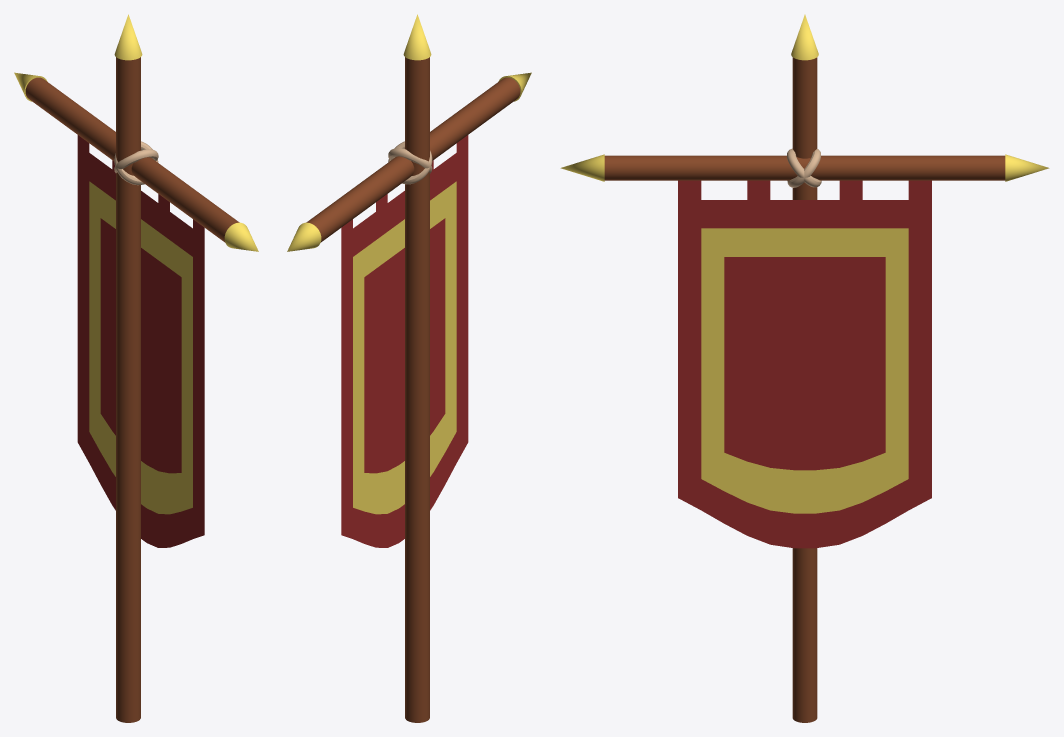
File: Flag 2.fbx
The picture shows the model from 3 angles, left to right: view 1: azimuth 30°, elevation 25°; view 2: azimuth 150°, elevation 25°; view 3: azimuth 270°, elevation 25°; orthographic projection.
Visible parts, largest first — view 1: Flag, Cross; view 2: Flag, Cross; view 3: Flag, Cross.
Part boxes in pixels (x1,y1,x2,y2): Flag: [77, 135, 204, 547]; Cross: [14, 14, 258, 722]; Flag: [341, 135, 468, 547]; Cross: [287, 14, 531, 722]; Flag: [678, 180, 931, 548]; Cross: [560, 14, 1049, 722].
Bounding box in the file's own units: 37.89 × 625 × 394.
